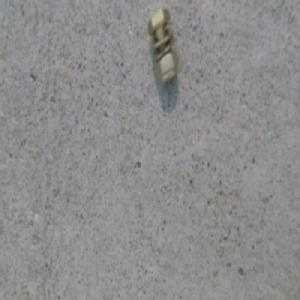BoltNutSet: (148, 7, 179, 87)
